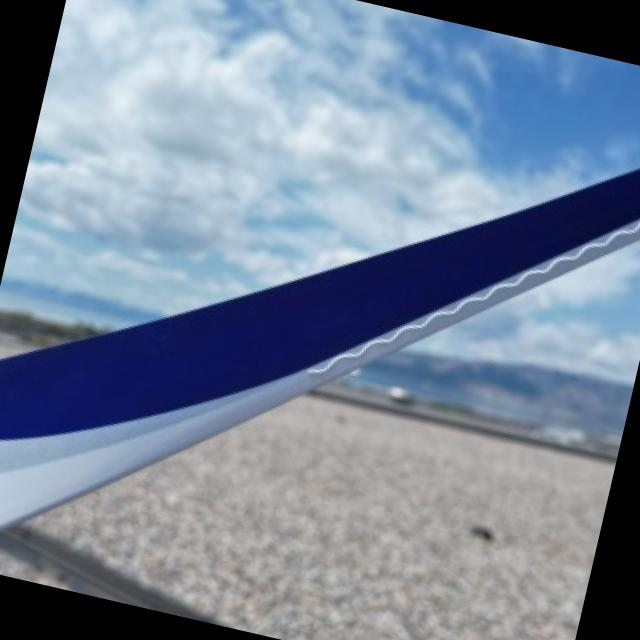healthy: (28, 395, 613, 640)
